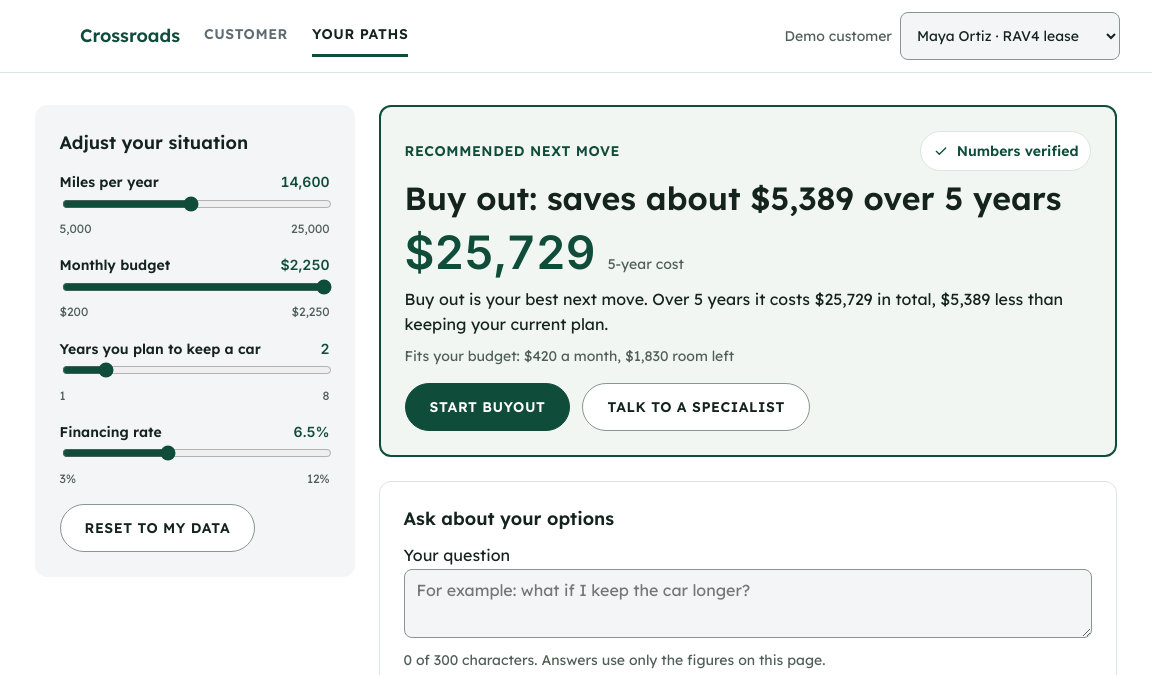
Test: Your paths sliders › sends all four inputs after a short pause and swaps in the new results
Set the slider labelled "Miles per year" to "20000" at (260, 204), box [62, 196, 332, 212]
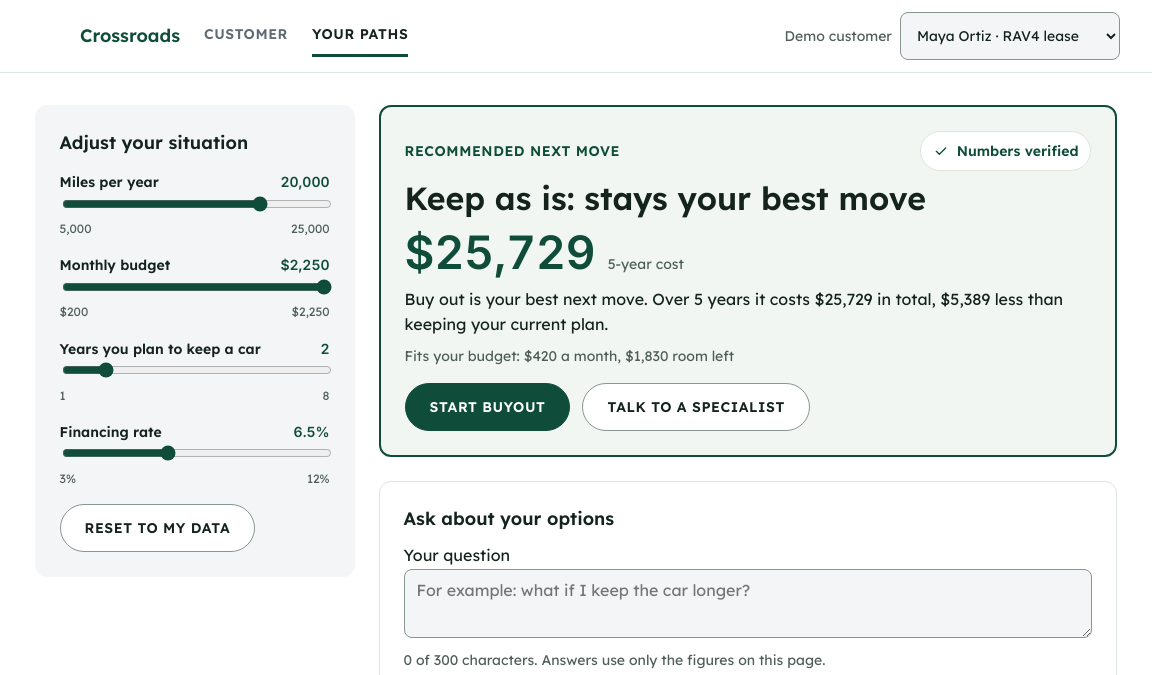
Expected: the heading "Keep as is: stays your best move" is shown, [404, 178, 926, 218]
